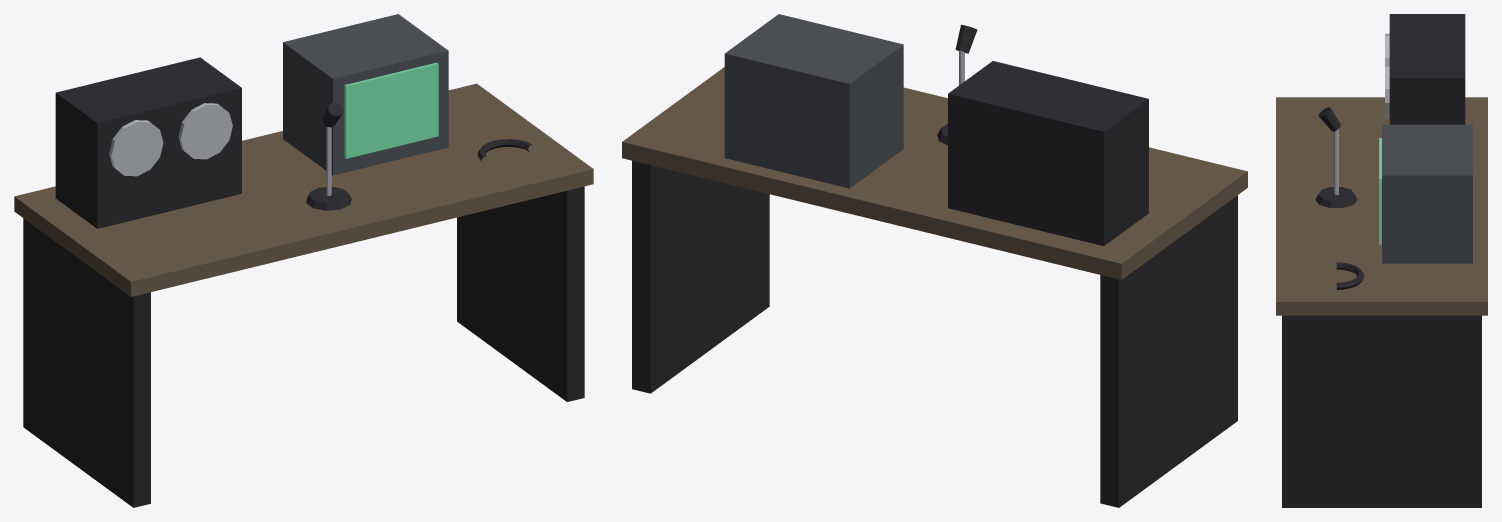
File: recording_desk.glb
3 views of the same model, side by side, from view 1: azimuth 30°, elevation 25°; view 2: azimuth 150°, elevation 25°; view 3: azimuth 270°, elevation 25° (orthographic). The views are drawn at different scales.
Parts seen in each view (by area): view 1: desk_rec_dark, desk_rec_wood, recorder_rec_dark, monitor_rec_monitor, monitor_rec_screen, reels_rec_steel, mic_rec_dark; view 2: desk_rec_dark, desk_rec_wood, recorder_rec_dark, monitor_rec_monitor; view 3: desk_rec_dark, desk_rec_wood, monitor_rec_monitor, recorder_rec_dark, mic_rec_dark, headphones_rec_dark, reels_rec_steel, mic_rec_steel, monitor_rec_screen.
Boxes of the visible parts, x1=… form: desk_rec_dark: x1=23, y1=186, x2=584, y2=507; desk_rec_wood: x1=14, y1=83, x2=593, y2=296; recorder_rec_dark: x1=55, y1=57, x2=241, y2=228; monitor_rec_monitor: x1=283, y1=14, x2=448, y2=175; monitor_rec_screen: x1=344, y1=62, x2=438, y2=158; reels_rec_steel: x1=109, y1=103, x2=232, y2=176; mic_rec_dark: x1=306, y1=102, x2=351, y2=210; desk_rec_dark: x1=632, y1=160, x2=1237, y2=507; desk_rec_wood: x1=622, y1=67, x2=1247, y2=279; recorder_rec_dark: x1=948, y1=61, x2=1148, y2=246; monitor_rec_monitor: x1=724, y1=14, x2=903, y2=188; desk_rec_dark: x1=1282, y1=315, x2=1481, y2=507; desk_rec_wood: x1=1276, y1=97, x2=1487, y2=315; monitor_rec_monitor: x1=1382, y1=124, x2=1472, y2=263; recorder_rec_dark: x1=1389, y1=14, x2=1465, y2=124; mic_rec_dark: x1=1315, y1=107, x2=1357, y2=207; headphones_rec_dark: x1=1336, y1=262, x2=1364, y2=289; reels_rec_steel: x1=1385, y1=33, x2=1389, y2=118; mic_rec_steel: x1=1334, y1=129, x2=1338, y2=194; monitor_rec_screen: x1=1379, y1=138, x2=1381, y2=244.
Size of the model in its own units: 1.6 by 1.11 by 0.7.
